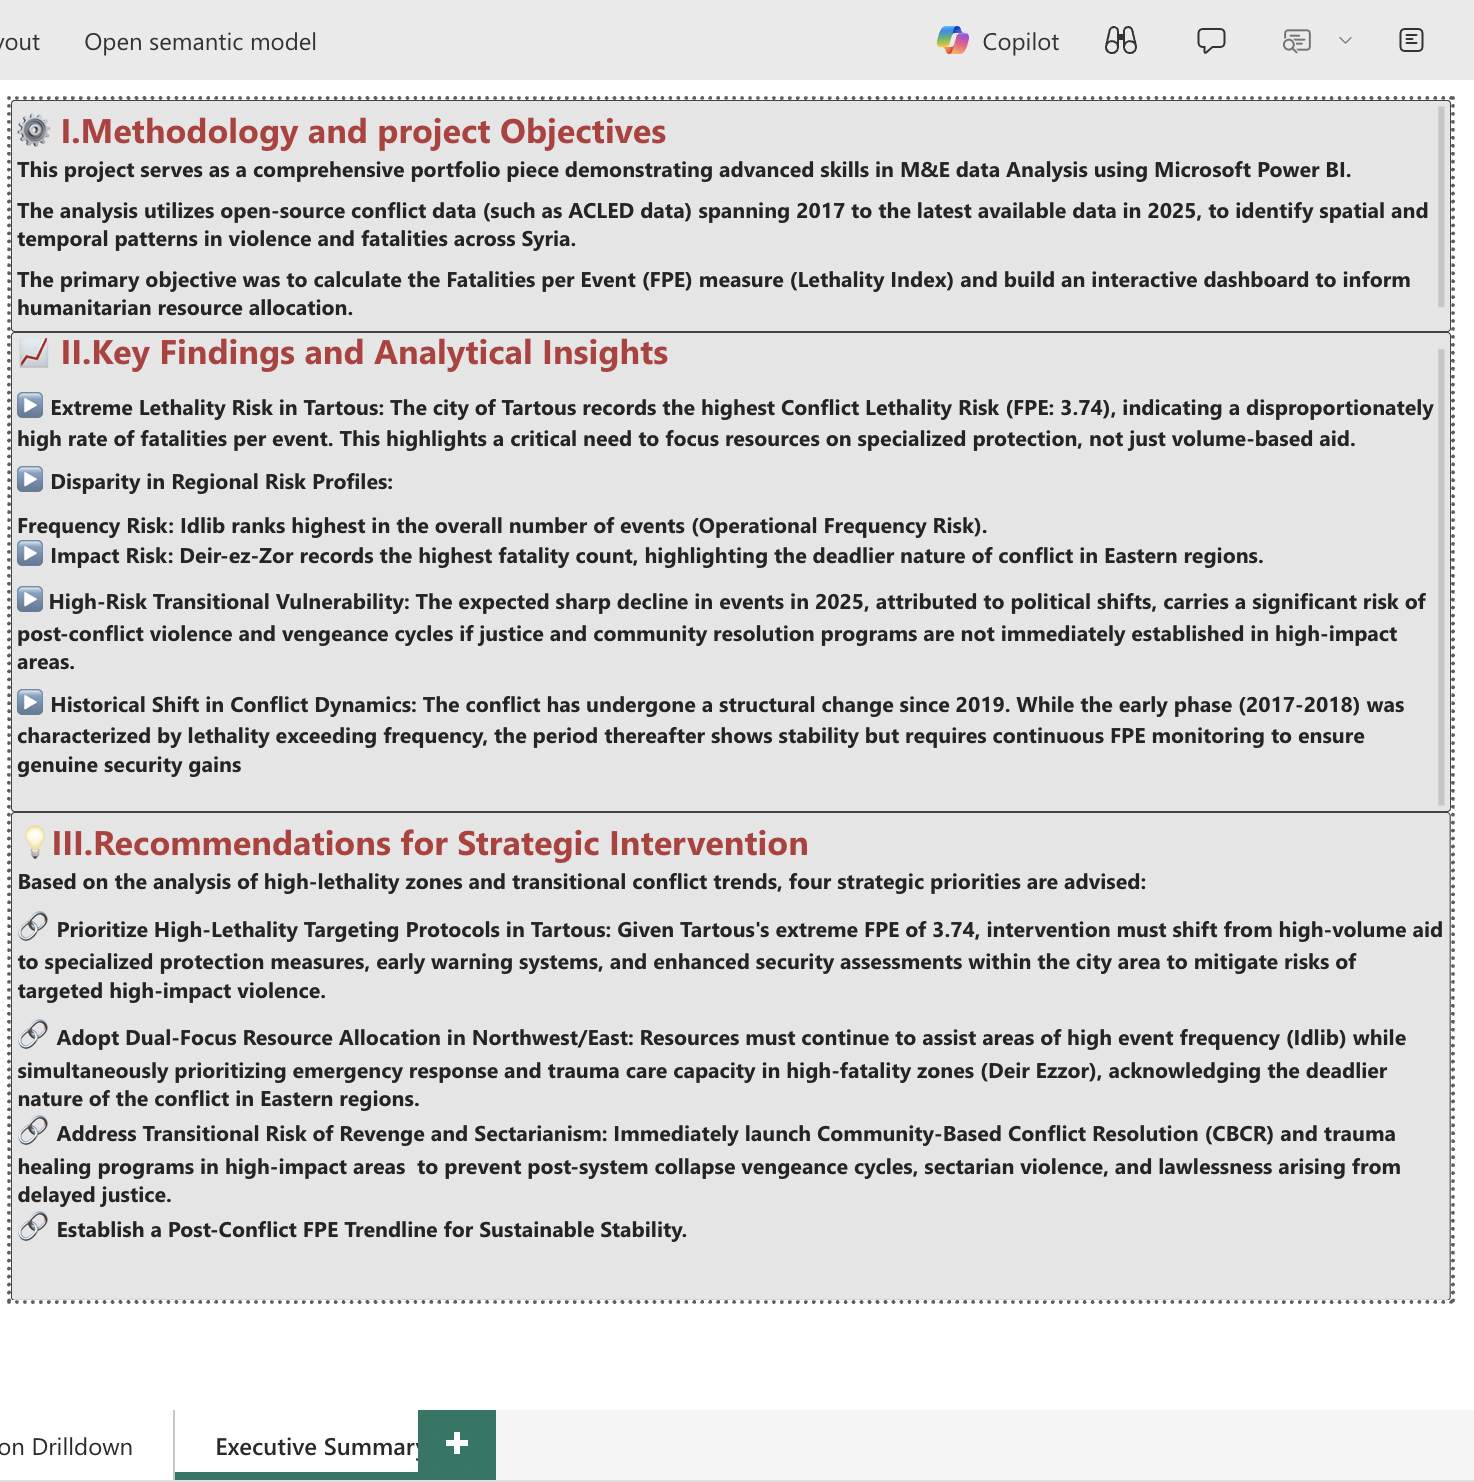

Layout of this report page (visuals, bound fields, positions):
{"tool":"powerbi","page":{"name":"Executive Summary","canvas":[1800,1500],"ordinal":2},"visuals":[{"type":"textbox","box":[0,0,1800,272.6],"z":0},{"type":"textbox","box":[0,272.6,1800,617.7],"z":1000},{"type":"textbox","box":[0,889.7,1799.6,610.8],"z":2000}]}

Visuals, with their boxes on the page's 1800x1500 design canvas (x1, y1, x2, y2). These are canvas units, not pixel positions in the 1474x1482 screenshot, which may show the page scaled, cropped or inside an application window:
textbox: 0:0:1800:273
textbox: 0:273:1800:890
textbox: 0:890:1800:1500
